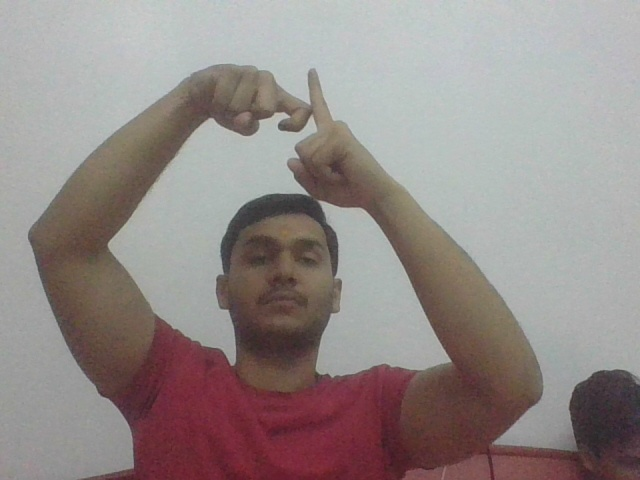K: (255, 58, 348, 151)
